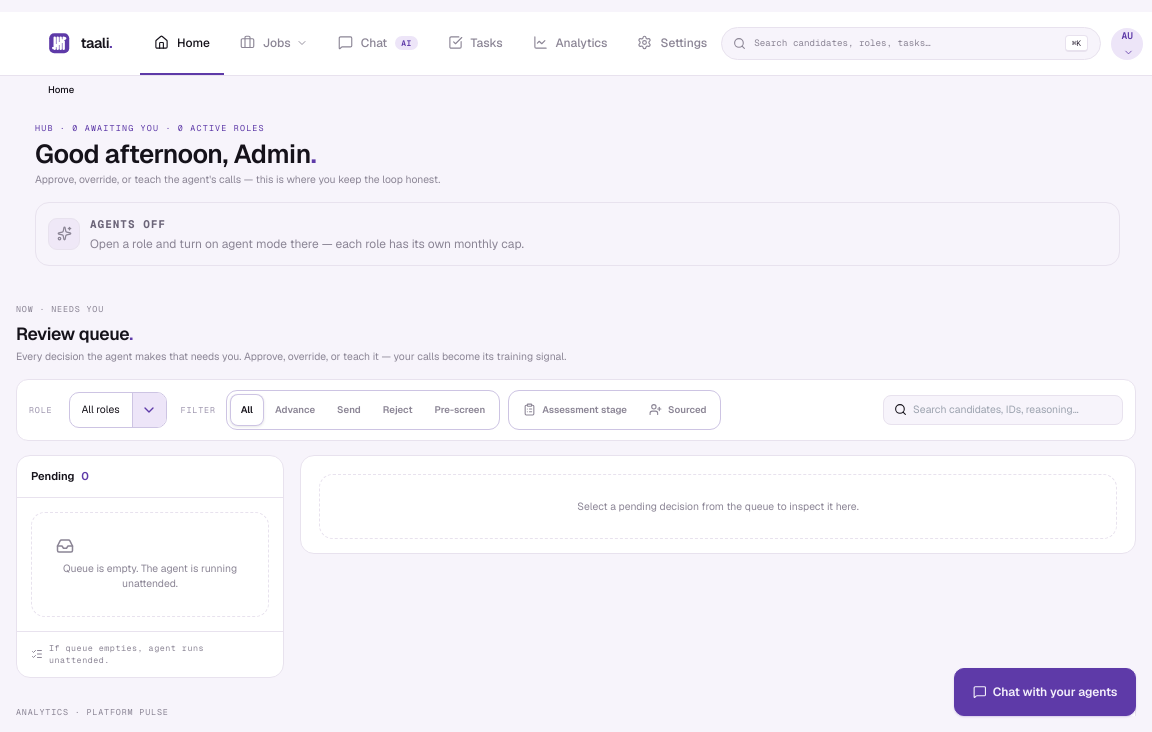
Test: TasksPage › renders task list
Click the link "Tasks" at (475, 42), box [448, 34, 503, 50]
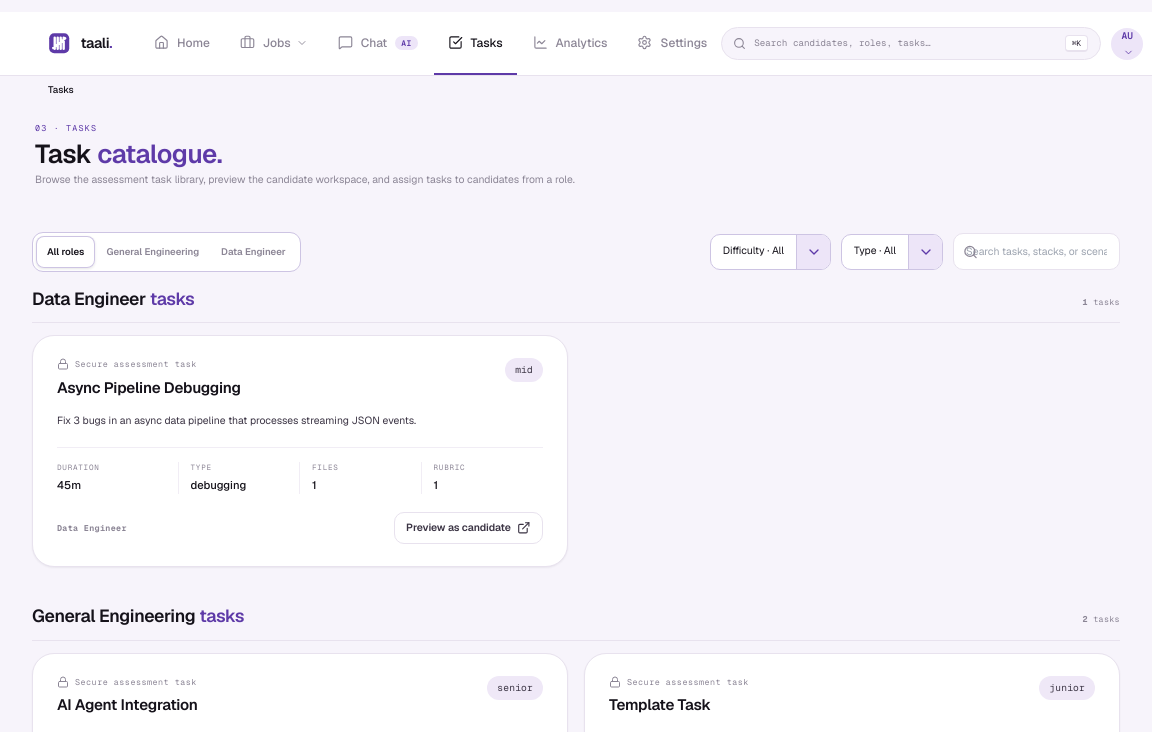
Now the heading "Task catalogue." is shown, box [35, 137, 222, 171]
Now the heading "Async Pipeline Debugging" is shown, box [57, 377, 241, 400]
Now the heading "AI Agent Integration" is shown, box [57, 694, 198, 717]
